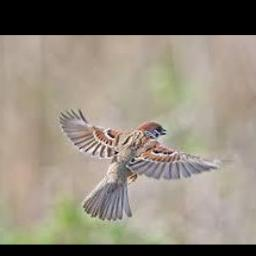Sparrow: (58, 107, 230, 221)
